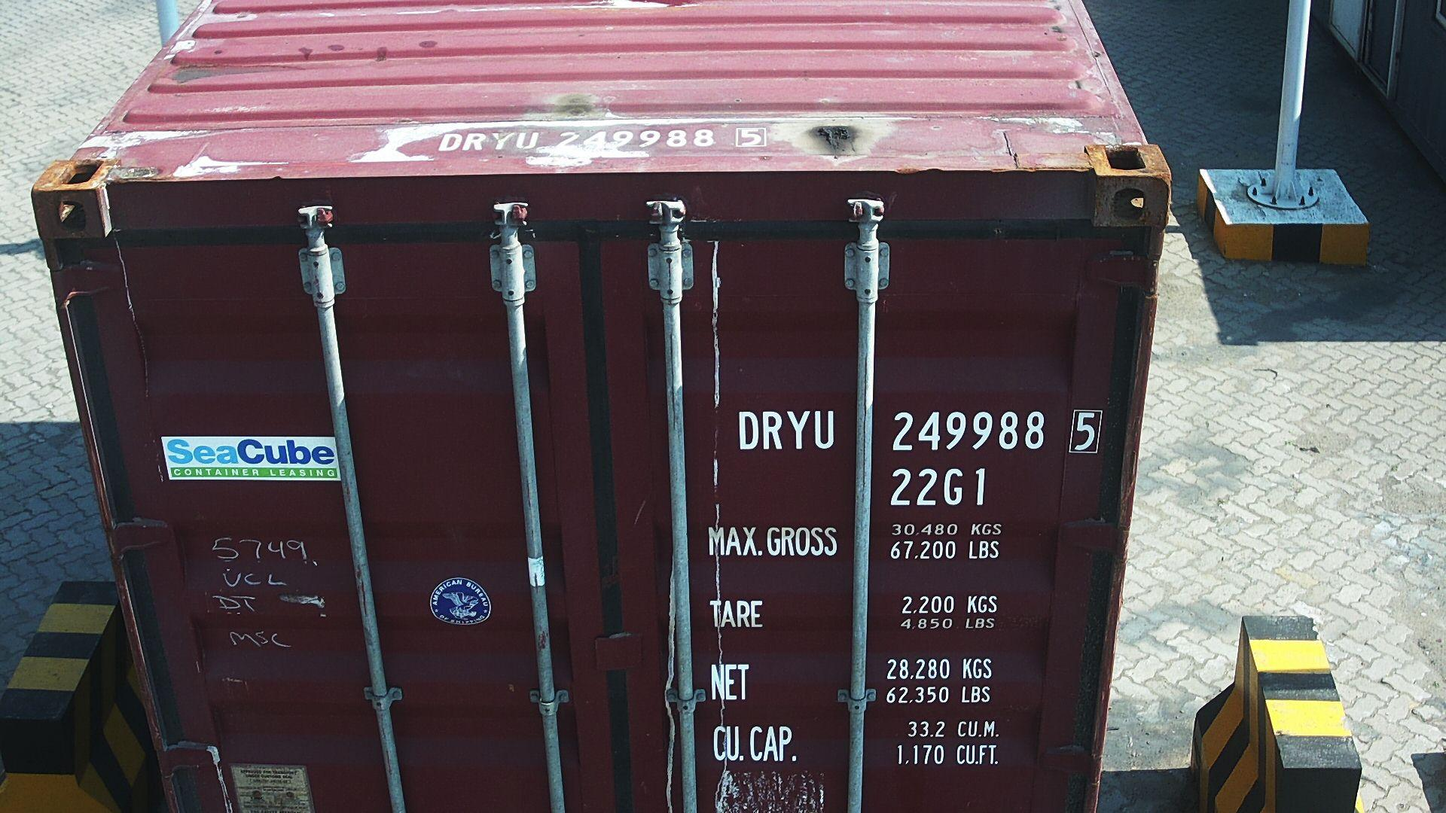container-numbers: (734, 406, 1111, 458), (413, 123, 776, 153), (886, 465, 991, 510)
